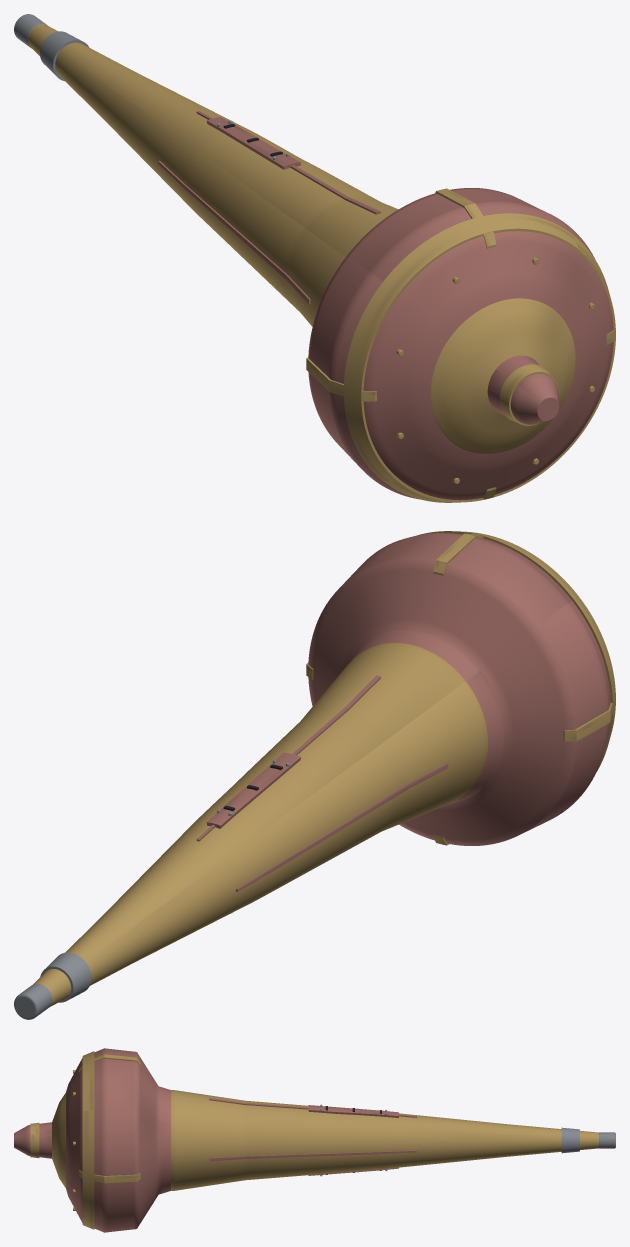
3 views of the same model, one above another, from view 1: azimuth 30°, elevation 25°; view 2: azimuth 150°, elevation 25°; view 3: azimuth 270°, elevation 25° (orthographic). The views are drawn at different scales.
Visible parts, largest first — view 1: Morning Glory rose terminal, Morning Glory gold spindle, Morning Glory gold terminal face, Morning Glory terminal gold rim, Morning Glory rose axial tip, Morning Glory shaft service cover 1, Morning Glory axial tip band, Morning Glory rose shaft inlay 2, Morning Glory shaft grey collar, Morning Glory gold crown applique 2, Morning Glory gold crown applique 1; view 2: Morning Glory gold spindle, Morning Glory rose terminal, Morning Glory terminal gold rim, Morning Glory shaft service cover 1, Morning Glory rose shaft inlay 2, Morning Glory shaft grey collar, Morning Glory grey shaft terminal, Morning Glory rose shaft inlay 1, Morning Glory gold crown applique 2, Morning Glory gold crown applique 1; view 3: Morning Glory gold spindle, Morning Glory rose terminal, Morning Glory terminal gold rim, Morning Glory gold terminal face, Morning Glory rose axial tip, Morning Glory rose shaft inlay 0, Morning Glory shaft service cover 1, Morning Glory shaft grey collar, Morning Glory gold crown applique 0, Morning Glory axial tip band, Morning Glory rose shaft inlay 1, Morning Glory grey shaft terminal.
Part boxes in pixels (x1,y1,x2,y2): Morning Glory rose terminal: (308,188,613,499); Morning Glory gold spindle: (28,24,398,326); Morning Glory gold terminal face: (430,298,575,453); Morning Glory terminal gold rim: (343,213,615,502); Morning Glory rose axial tip: (487,355,559,424); Morning Glory shaft service cover 1: (207,117,300,169); Morning Glory axial tip band: (499,364,559,425); Morning Glory rose shaft inlay 2: (158,161,310,304); Morning Glory shaft grey collar: (40,31,89,81); Morning Glory gold crown applique 2: (306,357,376,401); Morning Glory gold crown applique 1: (435,188,496,248); Morning Glory gold spindle: (33,643,487,1007); Morning Glory rose terminal: (308,533,610,845); Morning Glory terminal gold rim: (418,531,615,770); Morning Glory shaft service cover 1: (206,752,300,828); Morning Glory rose shaft inlay 2: (236,763,448,892); Morning Glory shaft grey collar: (40,952,91,1002); Morning Glory grey shaft terminal: (14,984,51,1019); Morning Glory rose shaft inlay 1: (196,675,380,841); Morning Glory gold crown applique 2: (563,702,612,741); Morning Glory gold crown applique 1: (433,533,483,575); Morning Glory gold spindle: (171,1090,598,1190); Morning Glory rose terminal: (66,1048,170,1232); Morning Glory terminal gold rim: (82,1051,94,1229); Morning Glory gold terminal face: (52,1093,65,1187); Morning Glory rose axial tip: (14,1122,51,1158); Morning Glory rose shaft inlay 0: (209,1150,416,1161); Morning Glory shaft service cover 1: (308,1105,398,1117); Morning Glory shaft grey collar: (561,1127,579,1153); Morning Glory gold crown applique 0: (79,1170,140,1183); Morning Glory axial tip band: (30,1122,39,1158); Morning Glory rose shaft inlay 1: (209,1098,416,1117); Morning Glory grey shaft terminal: (599,1132,615,1148).
Size of the model in its own units: 1.03 by 1.03 by 3.33.
Materials: 4 (2 with a texture image).
